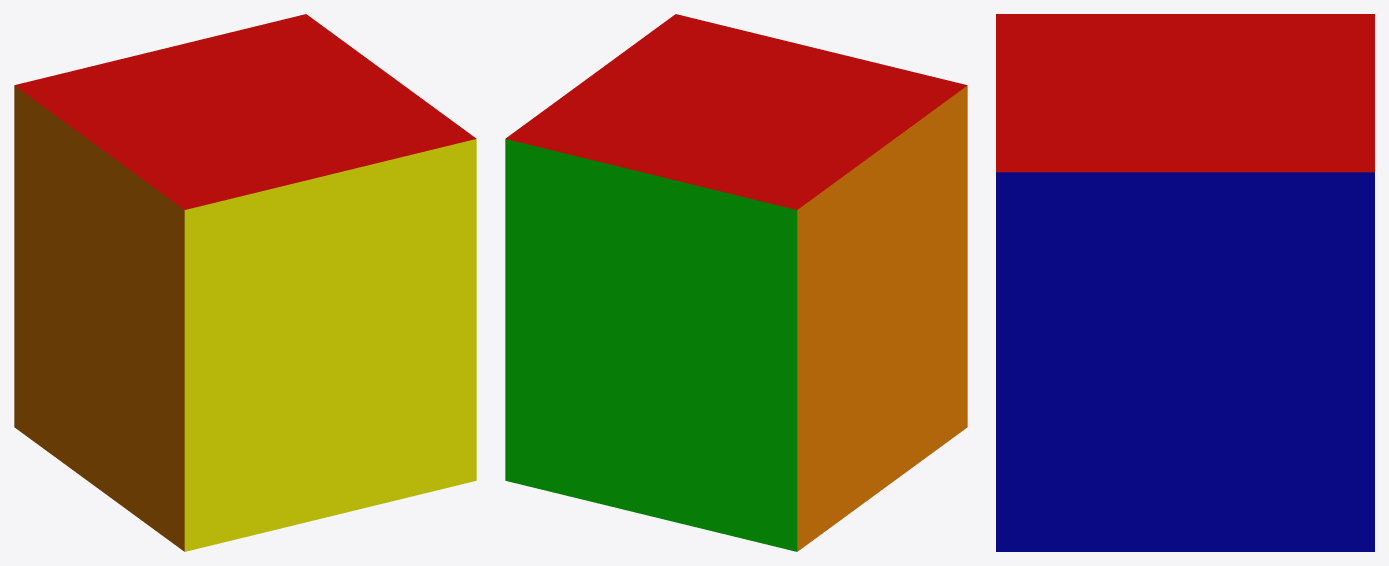
3 renders of one model, left to right at view 1: azimuth 30°, elevation 25°; view 2: azimuth 150°, elevation 25°; view 3: azimuth 270°, elevation 25°, orthographic. The views are drawn at different scales.
Parts seen in each view (by area): view 1: Layer0_001; view 2: Layer0_001; view 3: Layer0_001.
Boxes of the visible parts, x1,y1,x2,y2 form: Layer0_001: (14, 14, 476, 551); Layer0_001: (505, 14, 967, 551); Layer0_001: (996, 14, 1374, 551).
Size of the model in its own units: 855 by 956 by 865.
